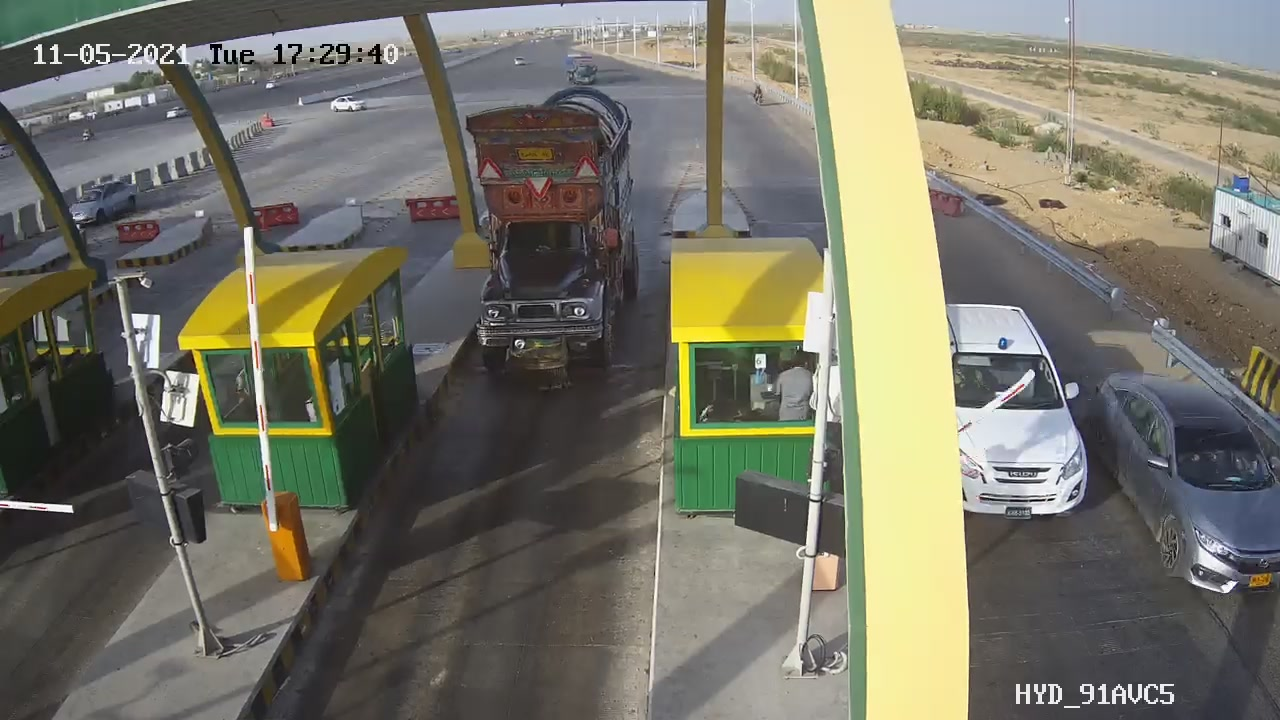F5: (446, 77, 661, 388)
